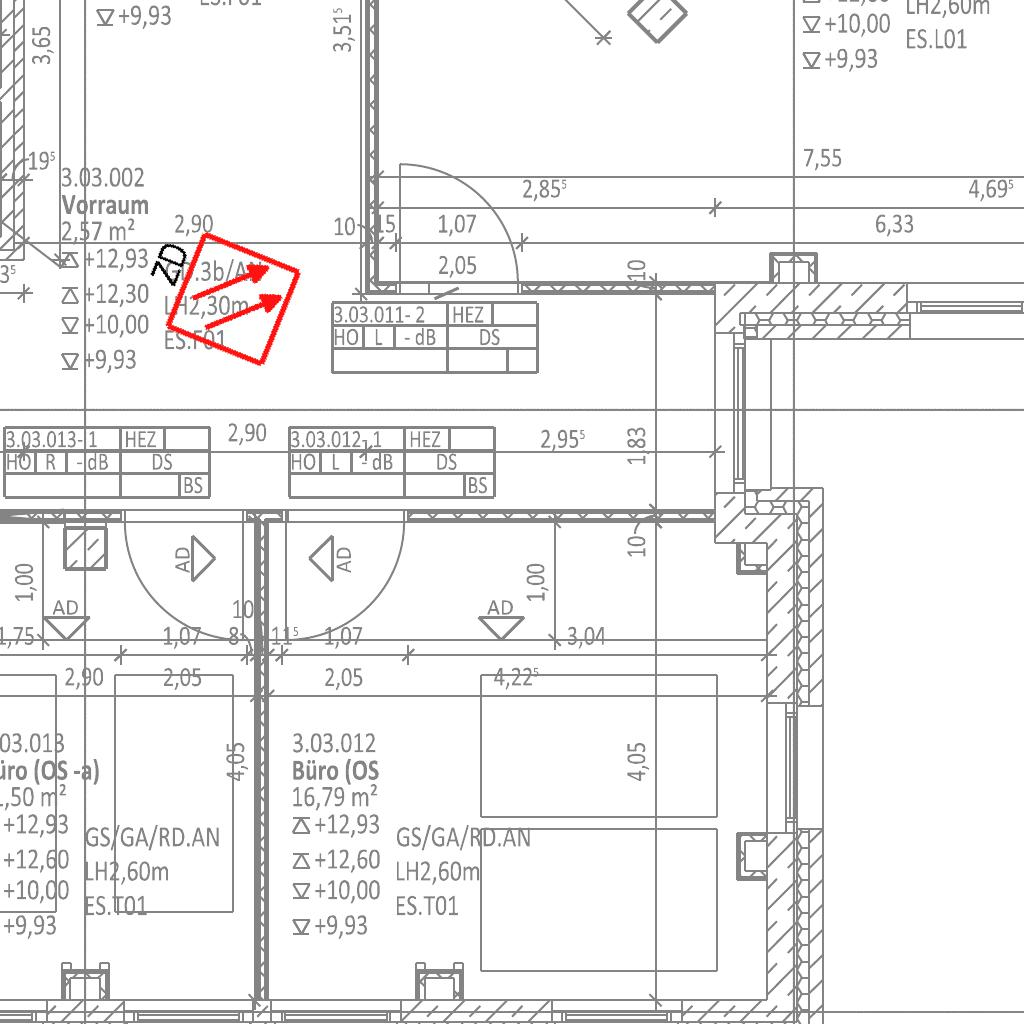ZD_Melder_in_Zwischendecke_mit_Revisionsoeffnung_mind_40_x_40_cm: (124, 212, 306, 375)
